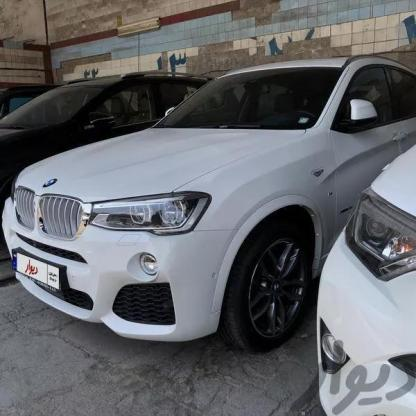Car: (0, 56, 416, 350), (0, 71, 234, 231), (312, 151, 416, 416)
